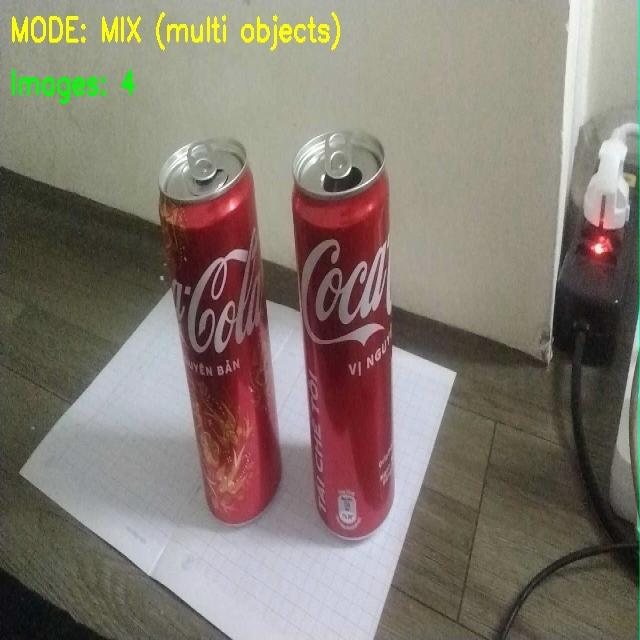Coca: (142, 131, 290, 542)
Coca_open: (293, 133, 449, 552)
